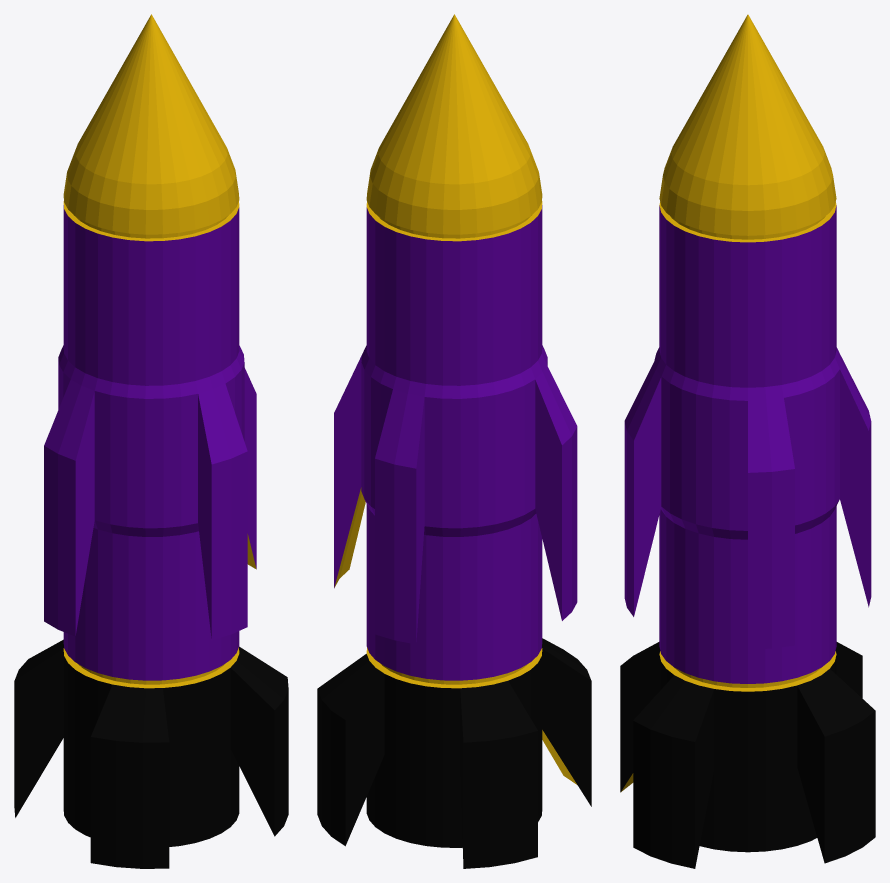
Rendered from rocket.fbx.
The picture shows the model from 3 angles, left to right: view 1: azimuth 30°, elevation 25°; view 2: azimuth 150°, elevation 25°; view 3: azimuth 270°, elevation 25°; orthographic projection.
Visible parts, largest first — view 1: Cylinder; view 2: Cylinder; view 3: Cylinder.
Boxes of the visible parts, <box> form: Cylinder: <box>14,14,288,868</box>; Cylinder: <box>317,14,591,868</box>; Cylinder: <box>620,14,875,868</box>.
Size of the model in its own units: 142 by 493 by 142.
